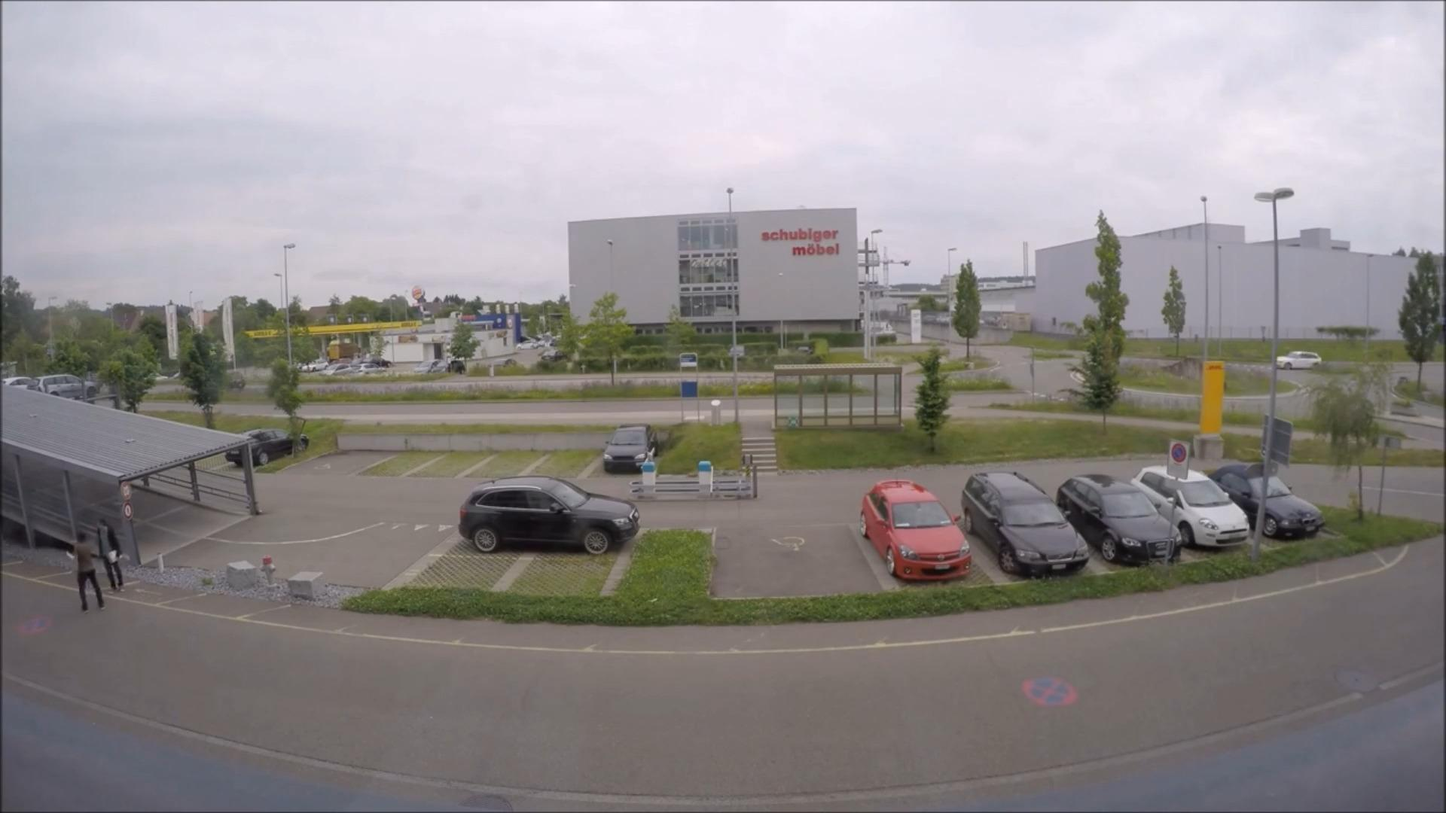occupied: (456, 475, 643, 557), (960, 471, 1084, 577), (1063, 471, 1191, 565), (867, 477, 976, 579), (1202, 464, 1321, 540), (223, 428, 306, 468), (601, 424, 658, 473), (31, 373, 93, 402), (1275, 350, 1322, 370), (3, 376, 35, 389), (357, 359, 392, 370), (540, 350, 567, 362)
